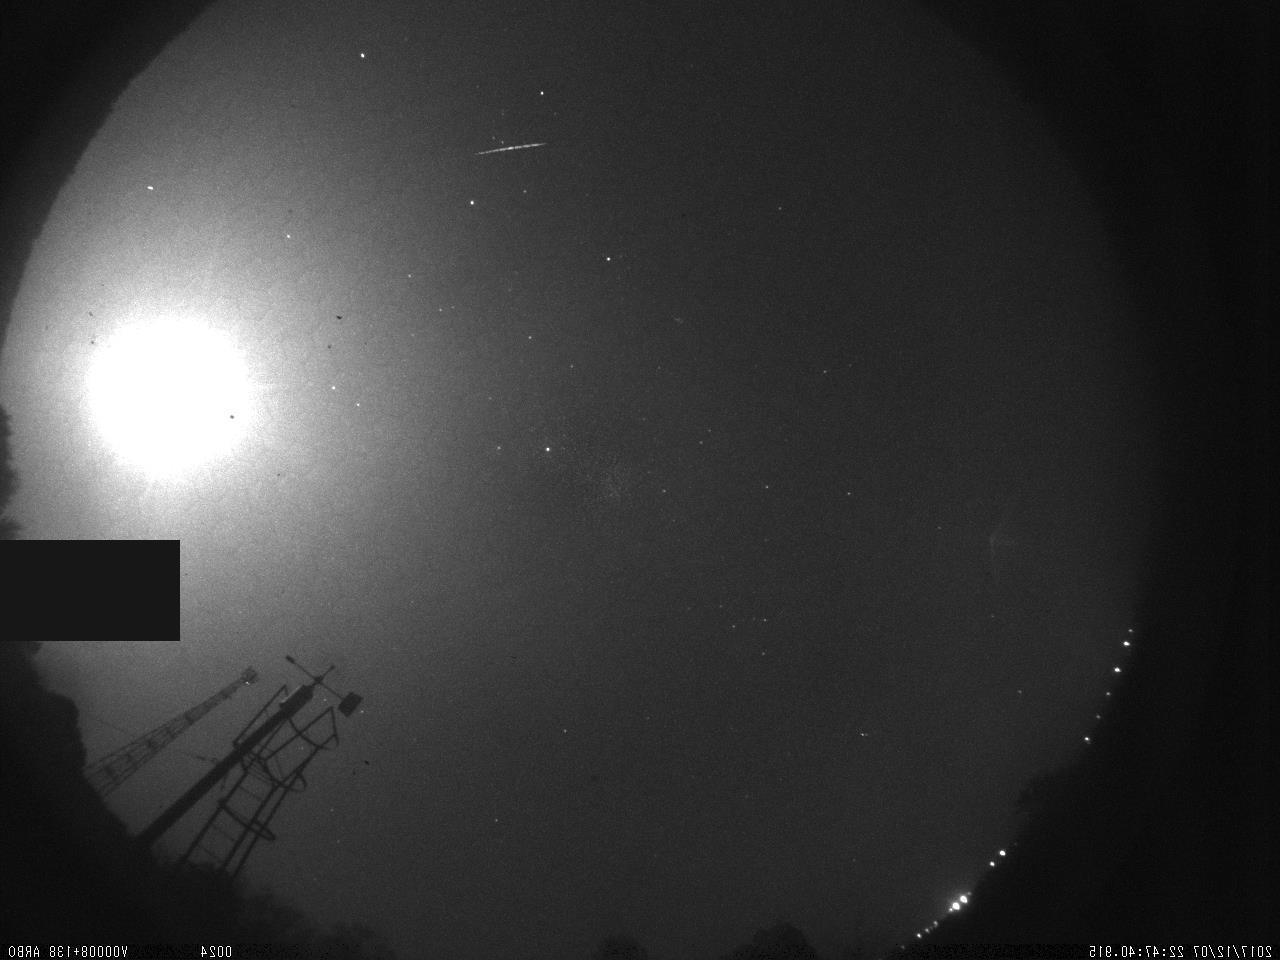meteor: (459, 133, 605, 177)
